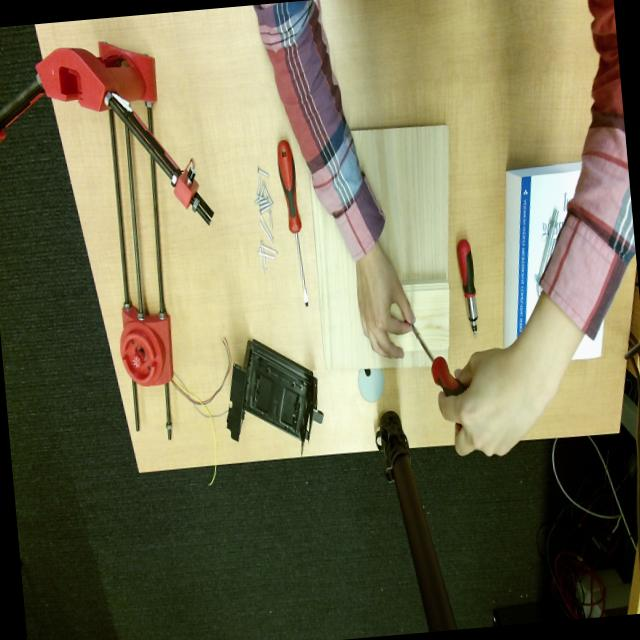screwdriver: (277, 140, 308, 306), (411, 323, 466, 396), (457, 238, 478, 335)
